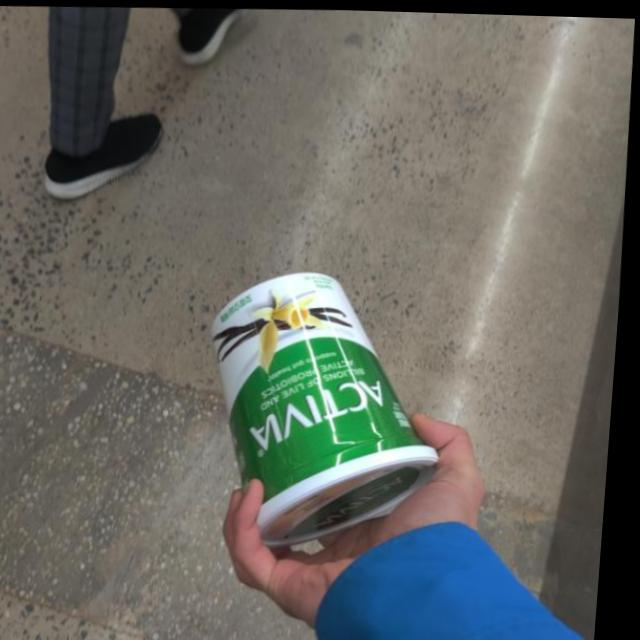Yogurt: (183, 251, 481, 547)
